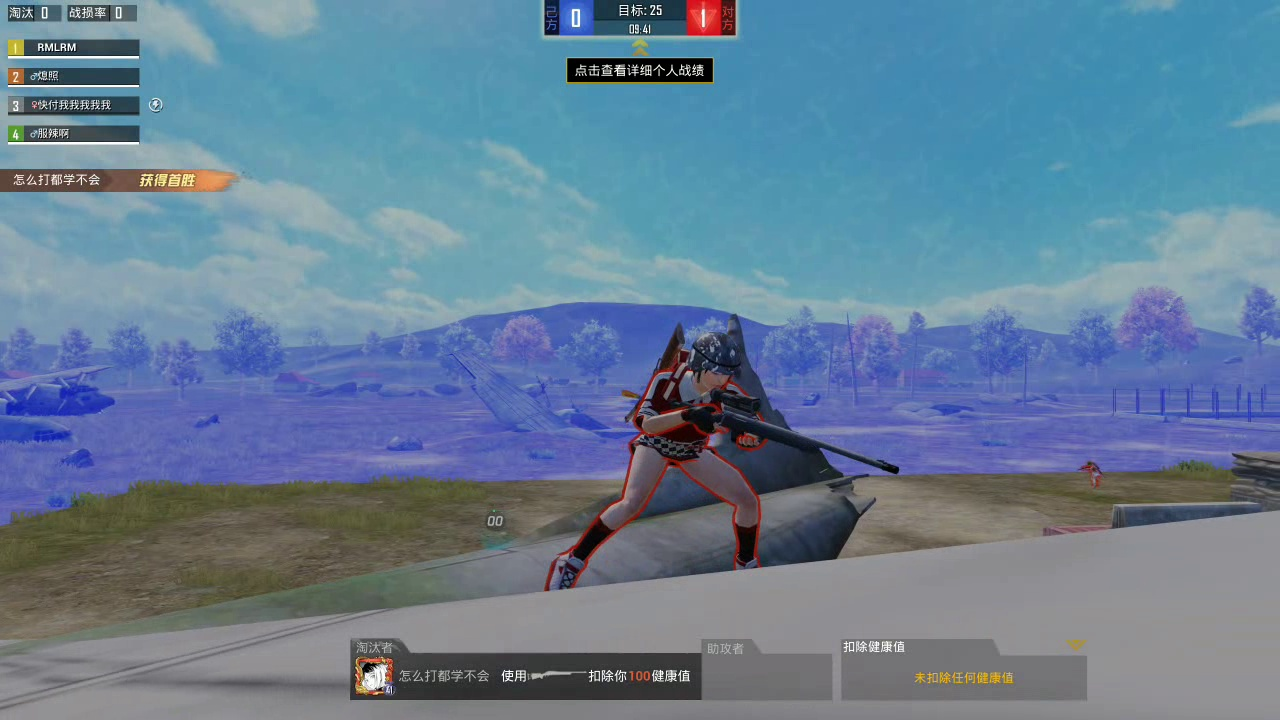enemy: (585, 334, 763, 567), (1080, 457, 1105, 488)
